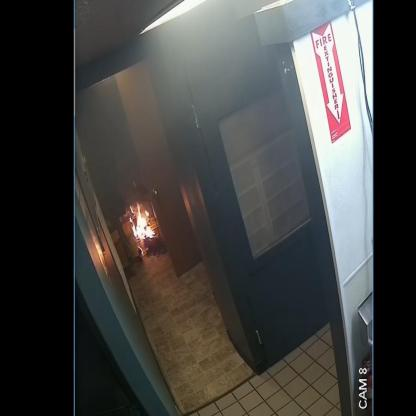fire: (130, 202, 156, 240)
